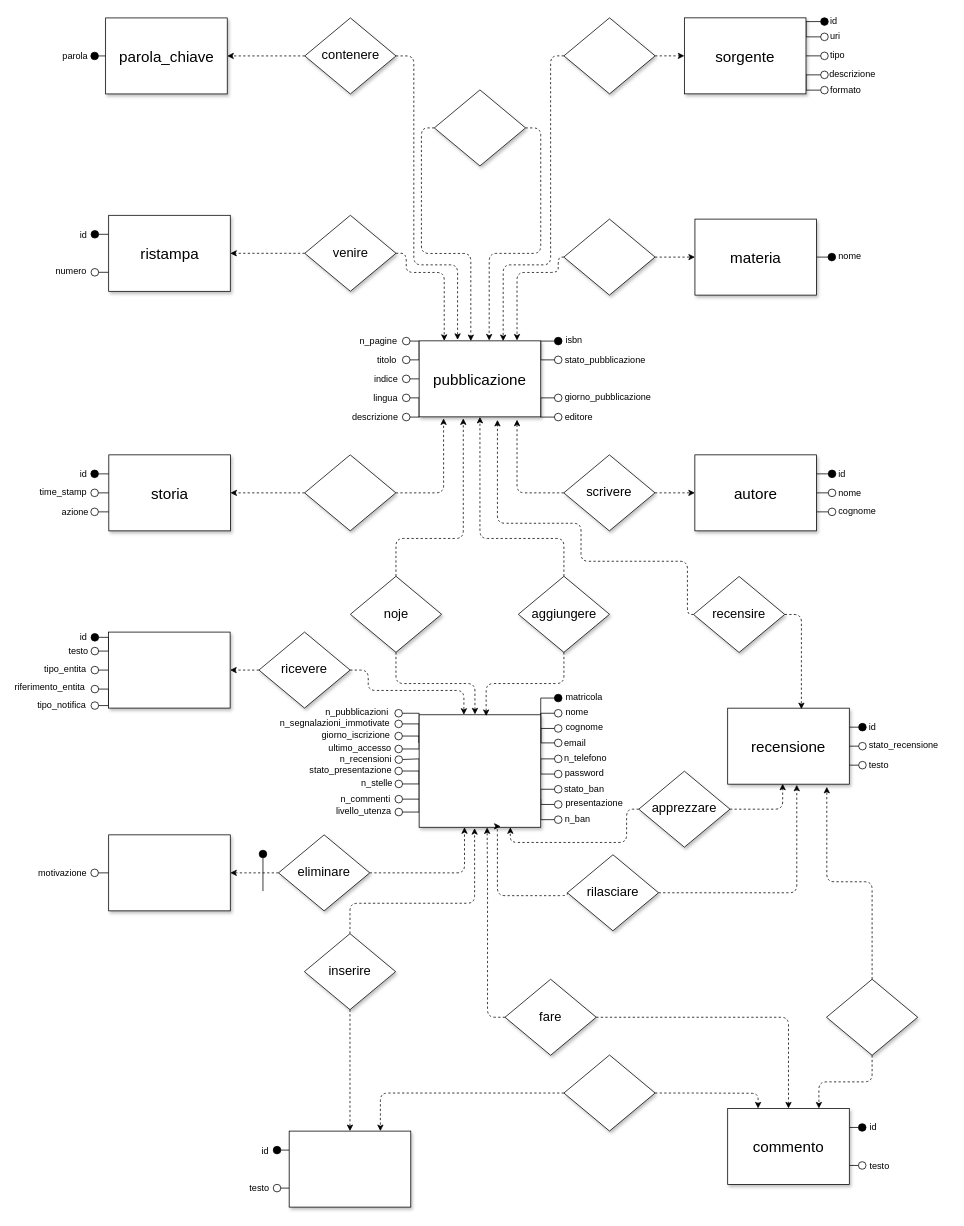
Some shapes in this 964 by 1226 pixel diagram are drawn without their labels. Each missing label, with the centre of its shape:
aggiornare: (x=480, y=128)
appartenere: (x=610, y=257)
commentare: (x=872, y=1018)
disporre: (x=610, y=56)
notifica: (x=170, y=670)
rispondere: (x=610, y=1093)
risposta: (x=350, y=1169)
tracciare: (x=350, y=493)
utente: (x=480, y=772)
utente_bannato: (x=170, y=873)
